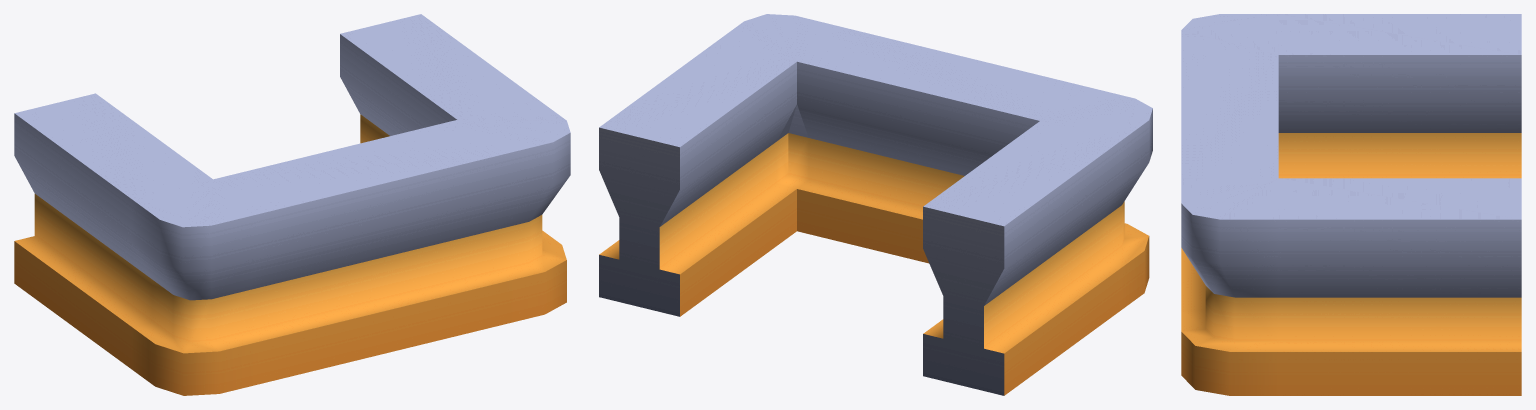
Rendered from balcony-rail.glb.
The picture shows the model from 3 angles, left to right: view 1: azimuth 30°, elevation 25°; view 2: azimuth 150°, elevation 25°; view 3: azimuth 270°, elevation 25°; orthographic projection. The views are drawn at different scales.
Parts seen in each view (by area): view 1: balcony-rail; view 2: balcony-rail; view 3: balcony-rail.
Part boxes in pixels (<box>): balcony-rail: <box>14,14,570,395</box>; balcony-rail: <box>599,14,1152,395</box>; balcony-rail: <box>1181,14,1521,395</box>.
Size of the model in its own units: 3 by 1.2 by 2.1.
Materials: 1 (1 with a texture image).
